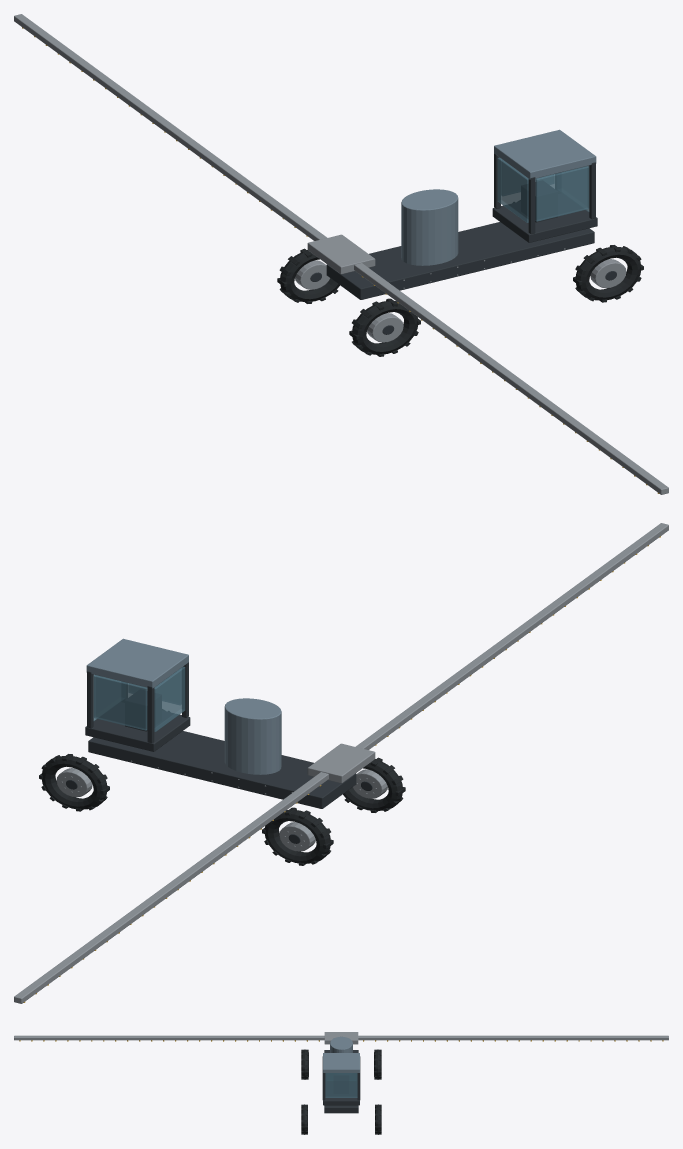
Rendered from john-deere-r4045-structural-study.glb.
3 views of the same model, one above another, from view 1: azimuth 30°, elevation 25°; view 2: azimuth 150°, elevation 25°; view 3: azimuth 270°, elevation 25° (orthographic). The views are drawn at different scales.
Visible parts, largest first — view 1: High_Clearance_Frame, Boom_R_Inner, Boom_L_Inner, Solution_Tank, Cab_Roof, Cab_R_Glass, Cab_Floor, Front_R_Tire, Rear_R_Tire, Boom_Center_Truss, Cab_Rear_Glass, Rear_L_Tire (+3 smaller); view 2: High_Clearance_Frame, Boom_L_Inner, Boom_R_Inner, Solution_Tank, Cab_Roof, Cab_L_Glass, Cab_Floor, Front_L_Tire, Rear_L_Tire, Boom_Center_Truss, Cab_Rear_Glass, Rear_R_Tire (+3 smaller); view 3: Boom_L_Inner, Boom_R_Inner, Cab_Front_Glass, Cab_Roof, Cab_Floor, High_Clearance_Frame, Solution_Tank, Boom_Center_Truss, Operator_Seat, Rear_L_Tire, Rear_R_Tire.
Boxes of the visible parts, left/top/right/bottom form: High_Clearance_Frame: left=326, top=222, right=594, bottom=299; Boom_R_Inner: left=354, top=263, right=668, bottom=494; Boom_L_Inner: left=14, top=14, right=327, bottom=240; Solution_Tank: left=401, top=189, right=458, bottom=265; Cab_Roof: left=494, top=129, right=596, bottom=179; Cab_R_Glass: left=535, top=166, right=588, bottom=221; Cab_Floor: left=492, top=193, right=597, bottom=242; Front_R_Tire: left=575, top=247, right=641, bottom=300; Rear_R_Tire: left=352, top=301, right=418, bottom=354; Boom_Center_Truss: left=307, top=234, right=375, bottom=274; Cab_Rear_Glass: left=497, top=157, right=528, bottom=222; Rear_L_Tire: left=280, top=250, right=339, bottom=301; High_Clearance_Frame: left=88, top=731, right=356, bottom=808; Boom_L_Inner: left=14, top=772, right=328, bottom=1003; Boom_R_Inner: left=355, top=523, right=668, bottom=749; Solution_Tank: left=224, top=698, right=281, bottom=774; Cab_Roof: left=86, top=638, right=188, bottom=688; Cab_L_Glass: left=94, top=675, right=147, bottom=730; Cab_Floor: left=85, top=702, right=190, bottom=751; Front_L_Tire: left=41, top=756, right=107, bottom=809; Rear_L_Tire: left=264, top=810, right=330, bottom=863; Boom_Center_Truss: left=307, top=743, right=375, bottom=783; Cab_Rear_Glass: left=154, top=666, right=185, bottom=731; Rear_R_Tire: left=343, top=759, right=402, bottom=810; Boom_L_Inner: left=358, top=1035, right=668, bottom=1040; Boom_R_Inner: left=14, top=1035, right=324, bottom=1040; Cab_Front_Glass: left=325, top=1073, right=357, bottom=1097; Cab_Roof: left=323, top=1053, right=359, bottom=1072; Cab_Floor: left=323, top=1084, right=359, bottom=1105; High_Clearance_Frame: left=324, top=1050, right=358, bottom=1113; Solution_Tank: left=330, top=1036, right=352, bottom=1052; Boom_Center_Truss: left=324, top=1032, right=358, bottom=1044; Operator_Seat: left=334, top=1076, right=348, bottom=1093; Rear_L_Tire: left=374, top=1049, right=381, bottom=1079; Rear_R_Tire: left=301, top=1049, right=308, bottom=1079.
Size of the model in its own units: 9.4 by 4 by 36.58.
